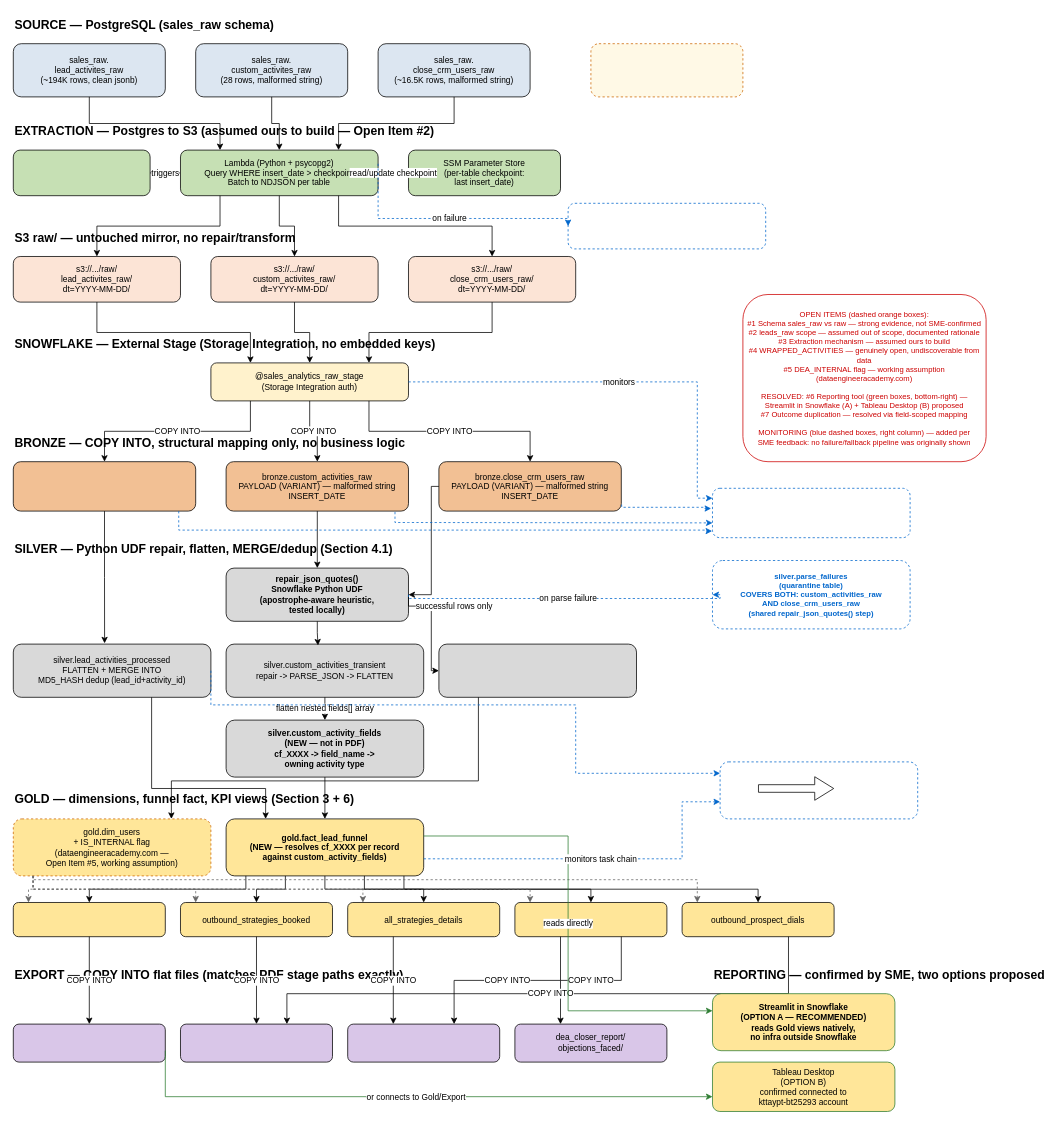
This 1059x1125 diagram has some shape labels left out. Each missing label, with the centre of its shape:
bronze.lead_activities_raw PAYLOAD (VARIANT) — already valid INSERT_DATE: the point at 104,486
CloudWatch Alarm + SNS Extraction (Lambda) failures: the point at 666,226
dea_closer_report/ closer_report/: the point at 423,1042
dea_setter_report/ inbound/: the point at 89,1042
dea_setter_report/ outbound/: the point at 256,1042
EventBridge Scheduler (daily, ~08:00 EST): the point at 81,172
inbound_strategies_booked: the point at 89,919
leads_raw (228K rows) ASSUMED OUT OF SCOPE — see Open Items: the point at 666,70
Row-count reconciliation (staged vs. loaded) alert if delta > threshold: the point at 811,513
sales_details: the point at 590,919
silver.close_crm_users_processed repair -> PARSE_JSON -> FLATTEN MERGE INTO: the point at 537,670
Snowflake Task failure notifications (Bronze -> Silver -> Gold task chain): the point at 818,790
